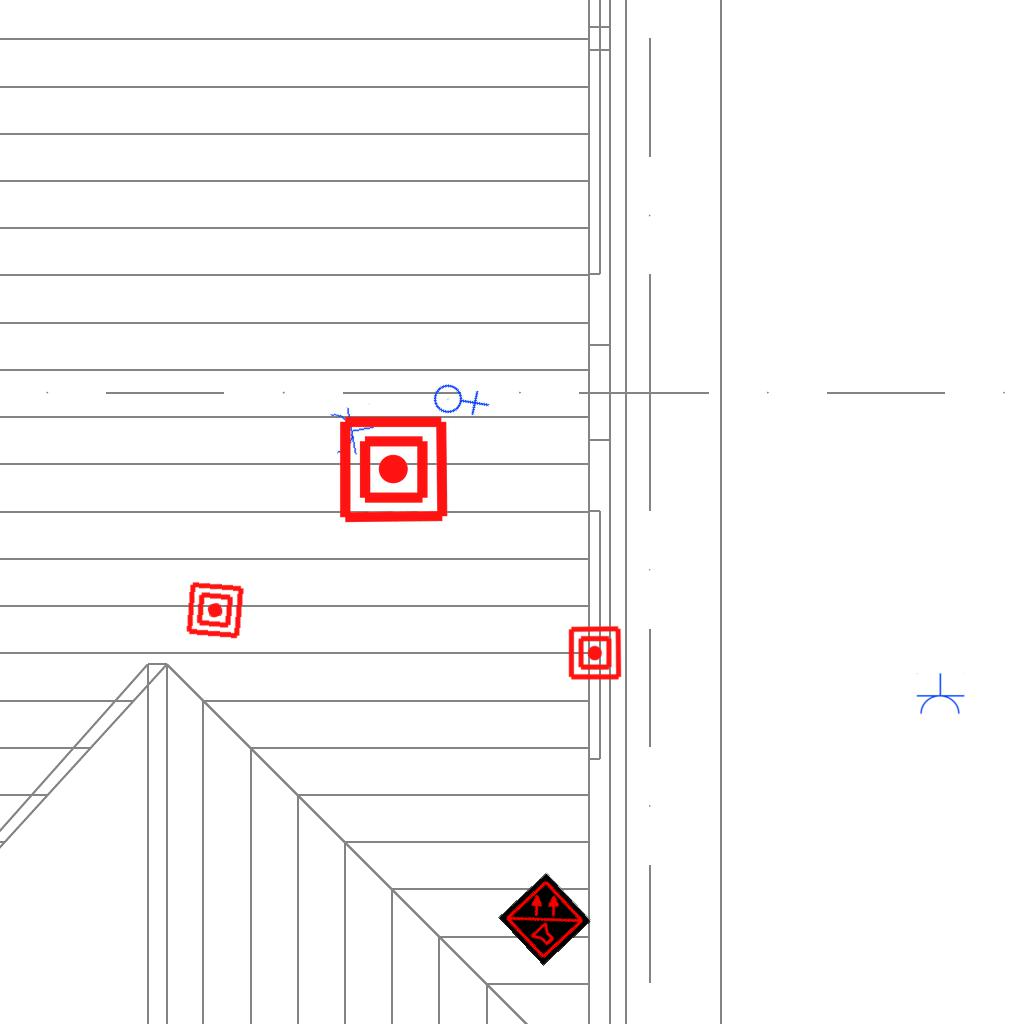Elektroanschluss_allgemein_230V_Geraeteanschlussdose_230V: (424, 364, 493, 433)
NAM-Nichtautomatischer_Melder: (337, 413, 450, 526), (184, 579, 246, 641), (567, 625, 623, 681)
OKW_Multisensormelder_(Kombination_optischer_Rauch-Kahlenmonoxid_Waerme-Melder): (498, 872, 592, 966)
Schukosteckdose_einfach: (327, 402, 379, 459), (915, 673, 965, 716)
